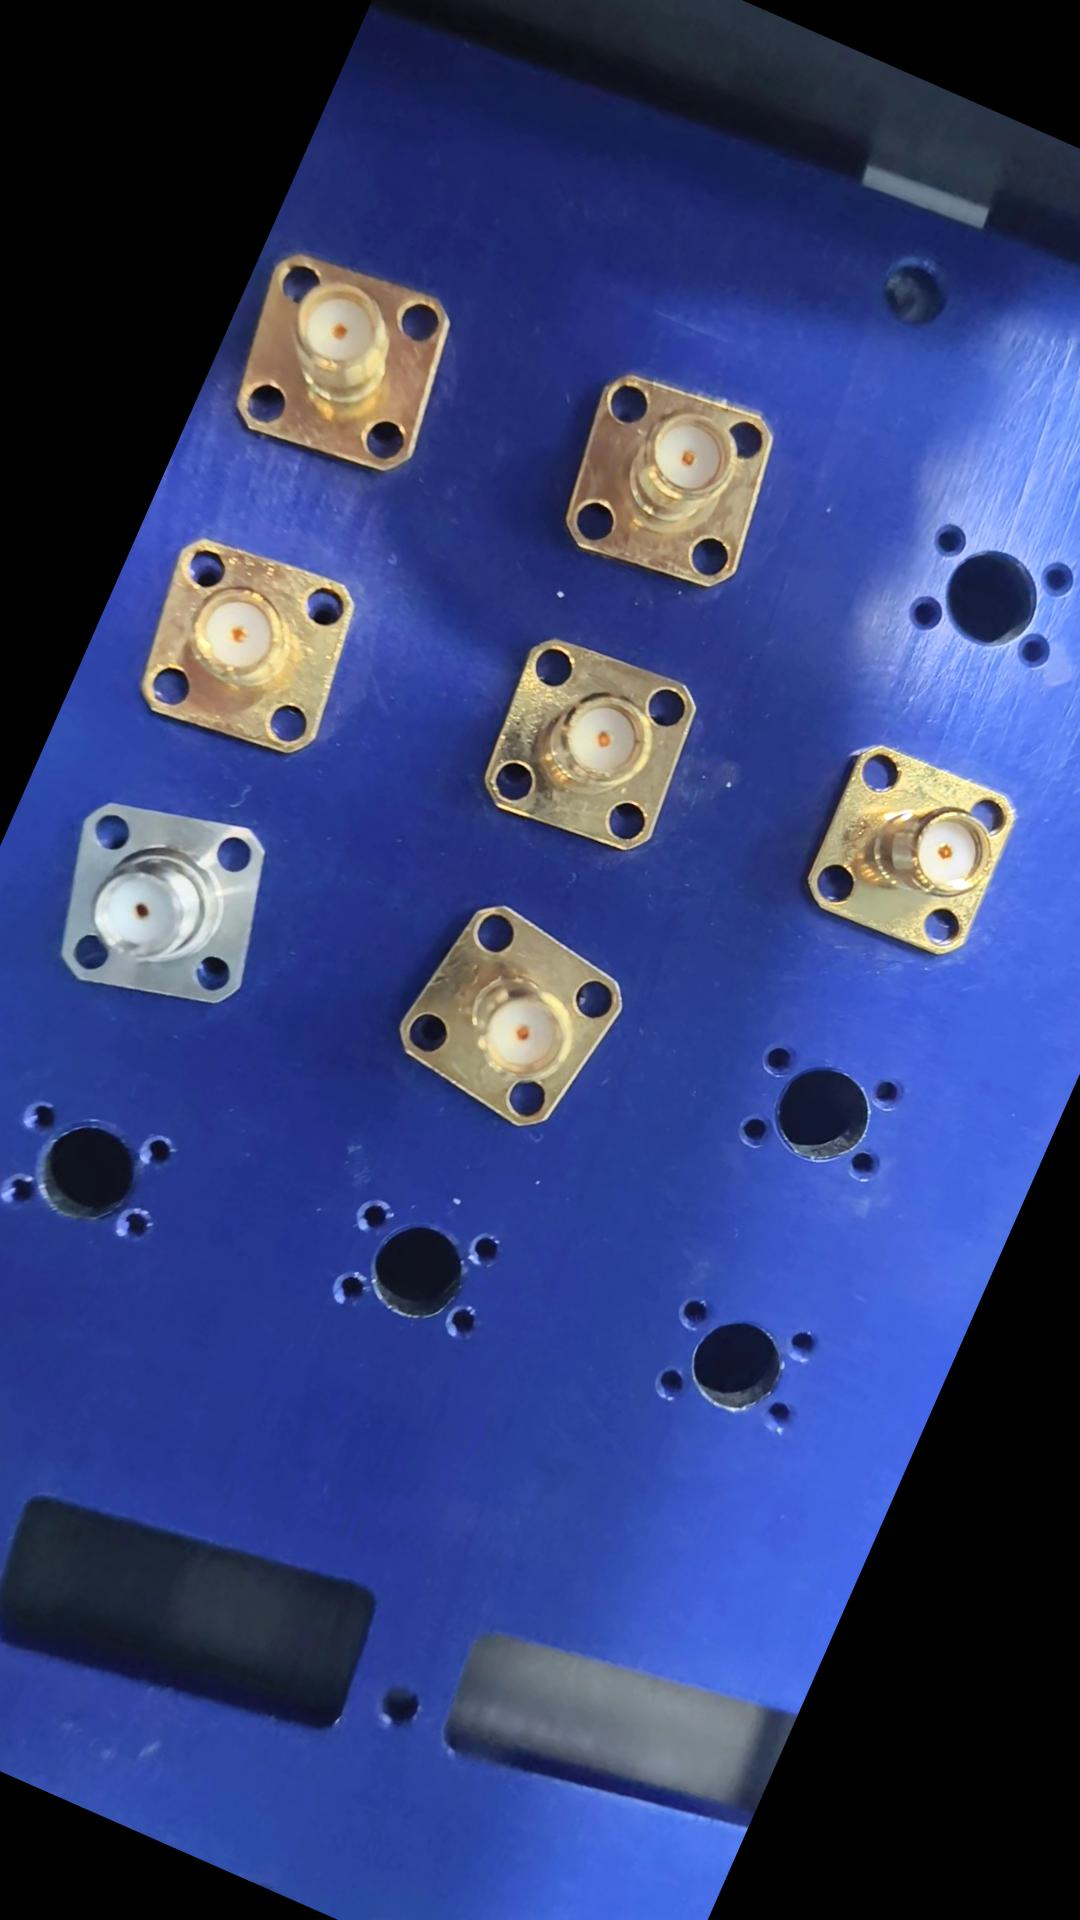SMA: (25, 762, 320, 1056), (119, 517, 389, 793), (381, 882, 654, 1153), (458, 618, 731, 887), (539, 349, 814, 613), (208, 244, 483, 506), (789, 727, 1040, 978)
